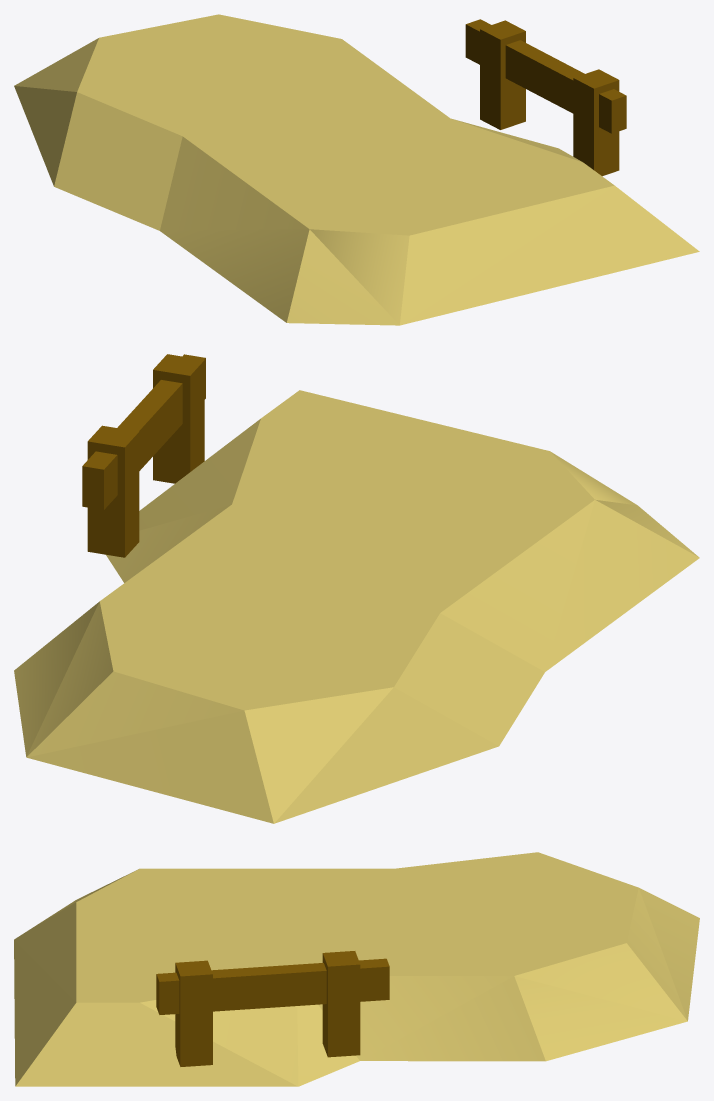
Rendered from DeadEnd.fbx.
3 views of the same model, one above another, from view 1: azimuth 30°, elevation 25°; view 2: azimuth 150°, elevation 25°; view 3: azimuth 270°, elevation 25° (orthographic). The views are drawn at different scales.
Visible parts, largest first — view 1: Normal - Dead End; view 2: Normal - Dead End; view 3: Normal - Dead End.
Boxes of the visible parts, bbox=[...] form: Normal - Dead End: bbox=[14, 14, 699, 325]; Normal - Dead End: bbox=[14, 354, 699, 823]; Normal - Dead End: bbox=[14, 852, 699, 1086].
Size of the model in its own units: 76.57 by 19.61 by 108.
